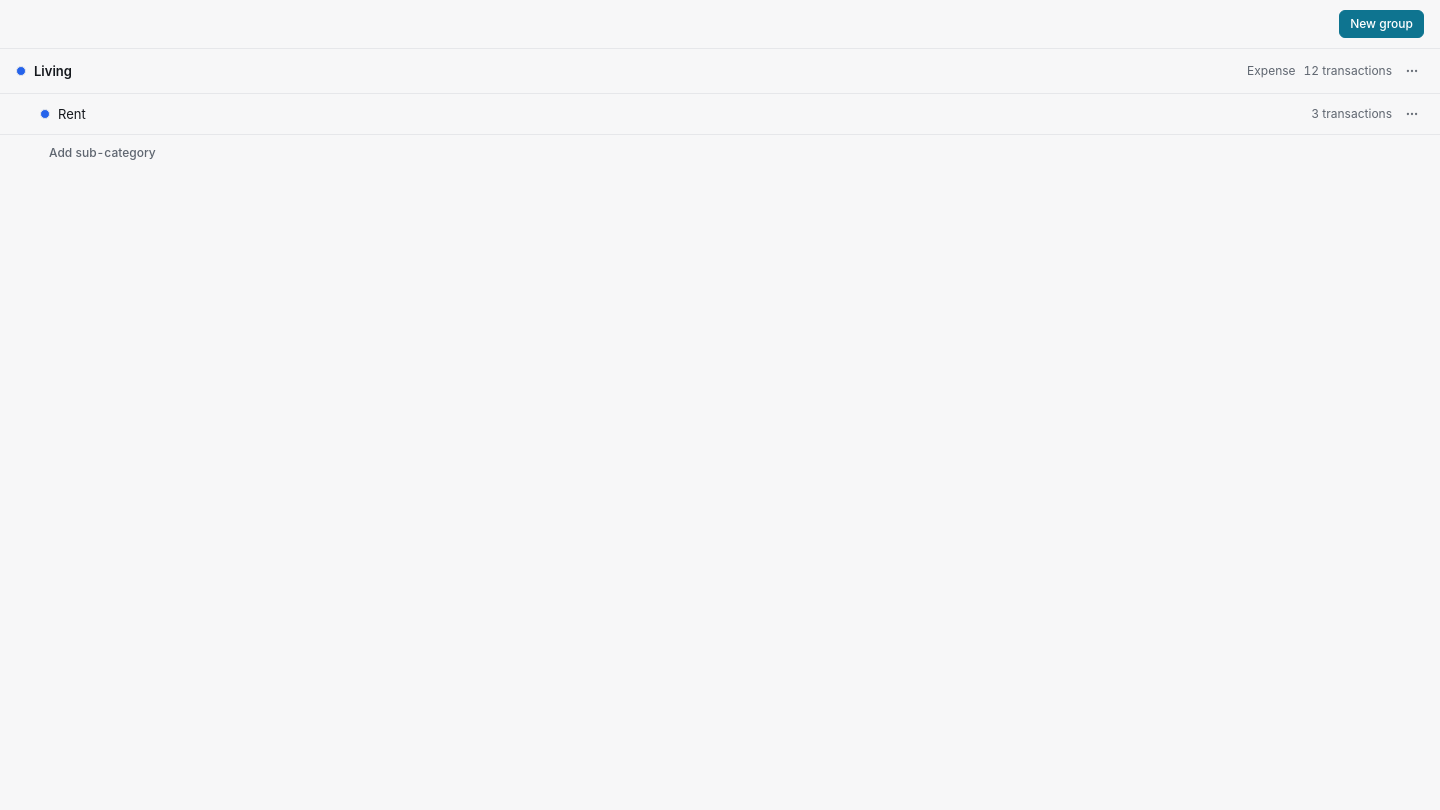
Test: CategoryTree › spells out everything a deletion takes, Wallet included, before it happens
This screenshot has width=1440, height=810.
Click the button named "Living" at (1412, 71), box [1400,59,1424,83]
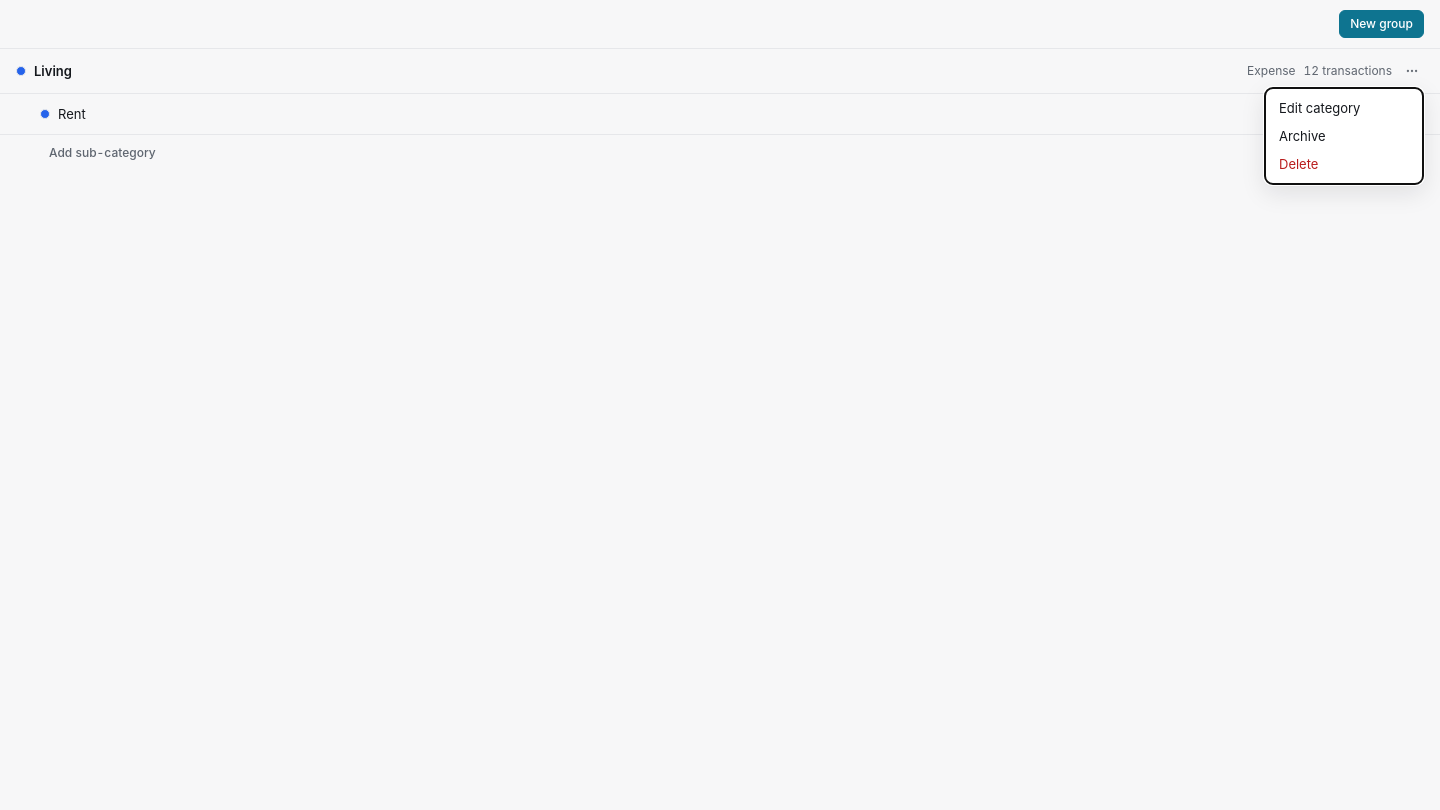
Click the menu item "Delete" at (1299, 164), box [1279,156,1318,172]
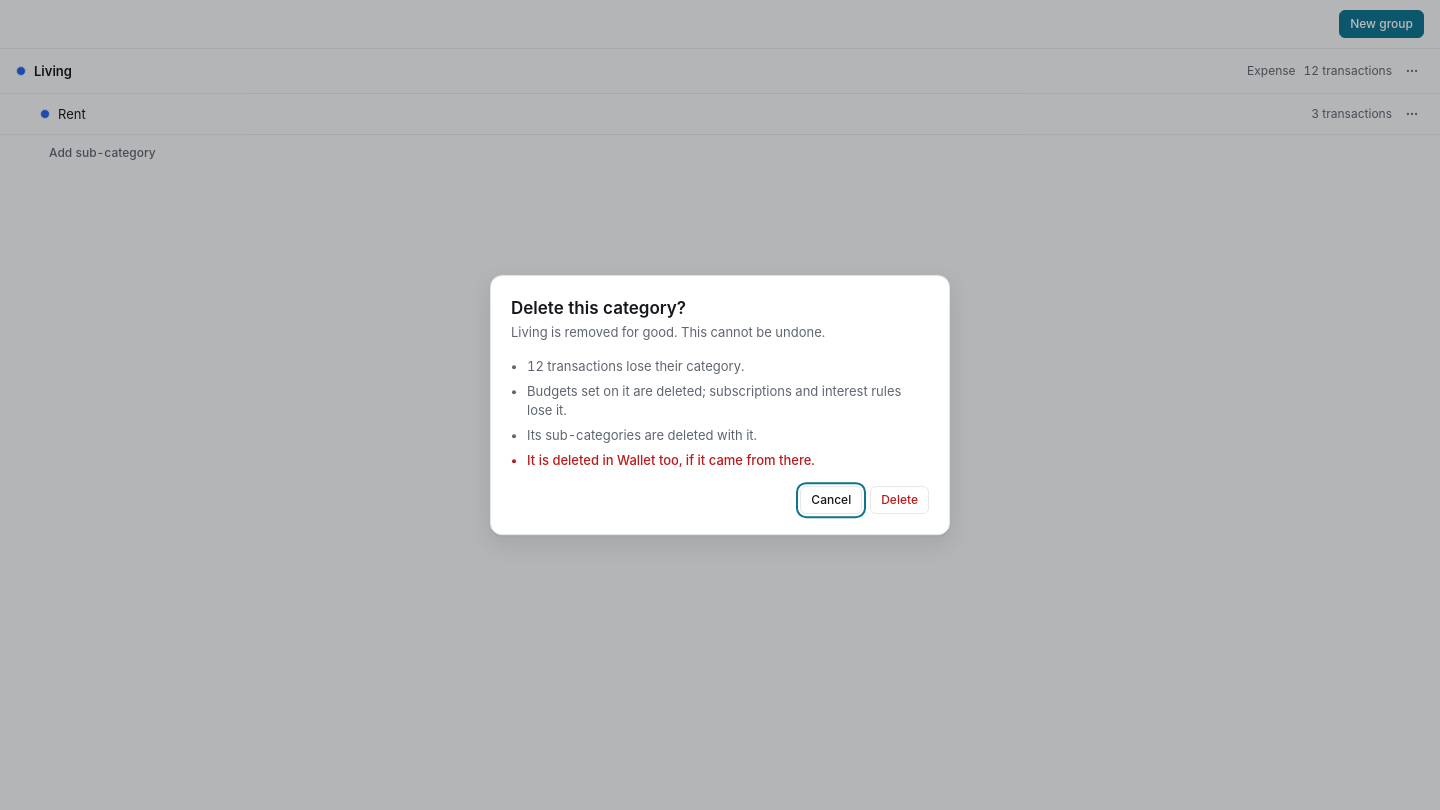
Now the dialog "Delete this category?" shows "Living is removed for good. This cannot be undone.", box [511,324,825,340]
Now the dialog "Delete this category?" shows "12 transactions lose their category.", box [527,359,744,375]
Now the dialog "Delete this category?" shows "Its sub-categories are deleted with it.", box [527,427,757,443]
